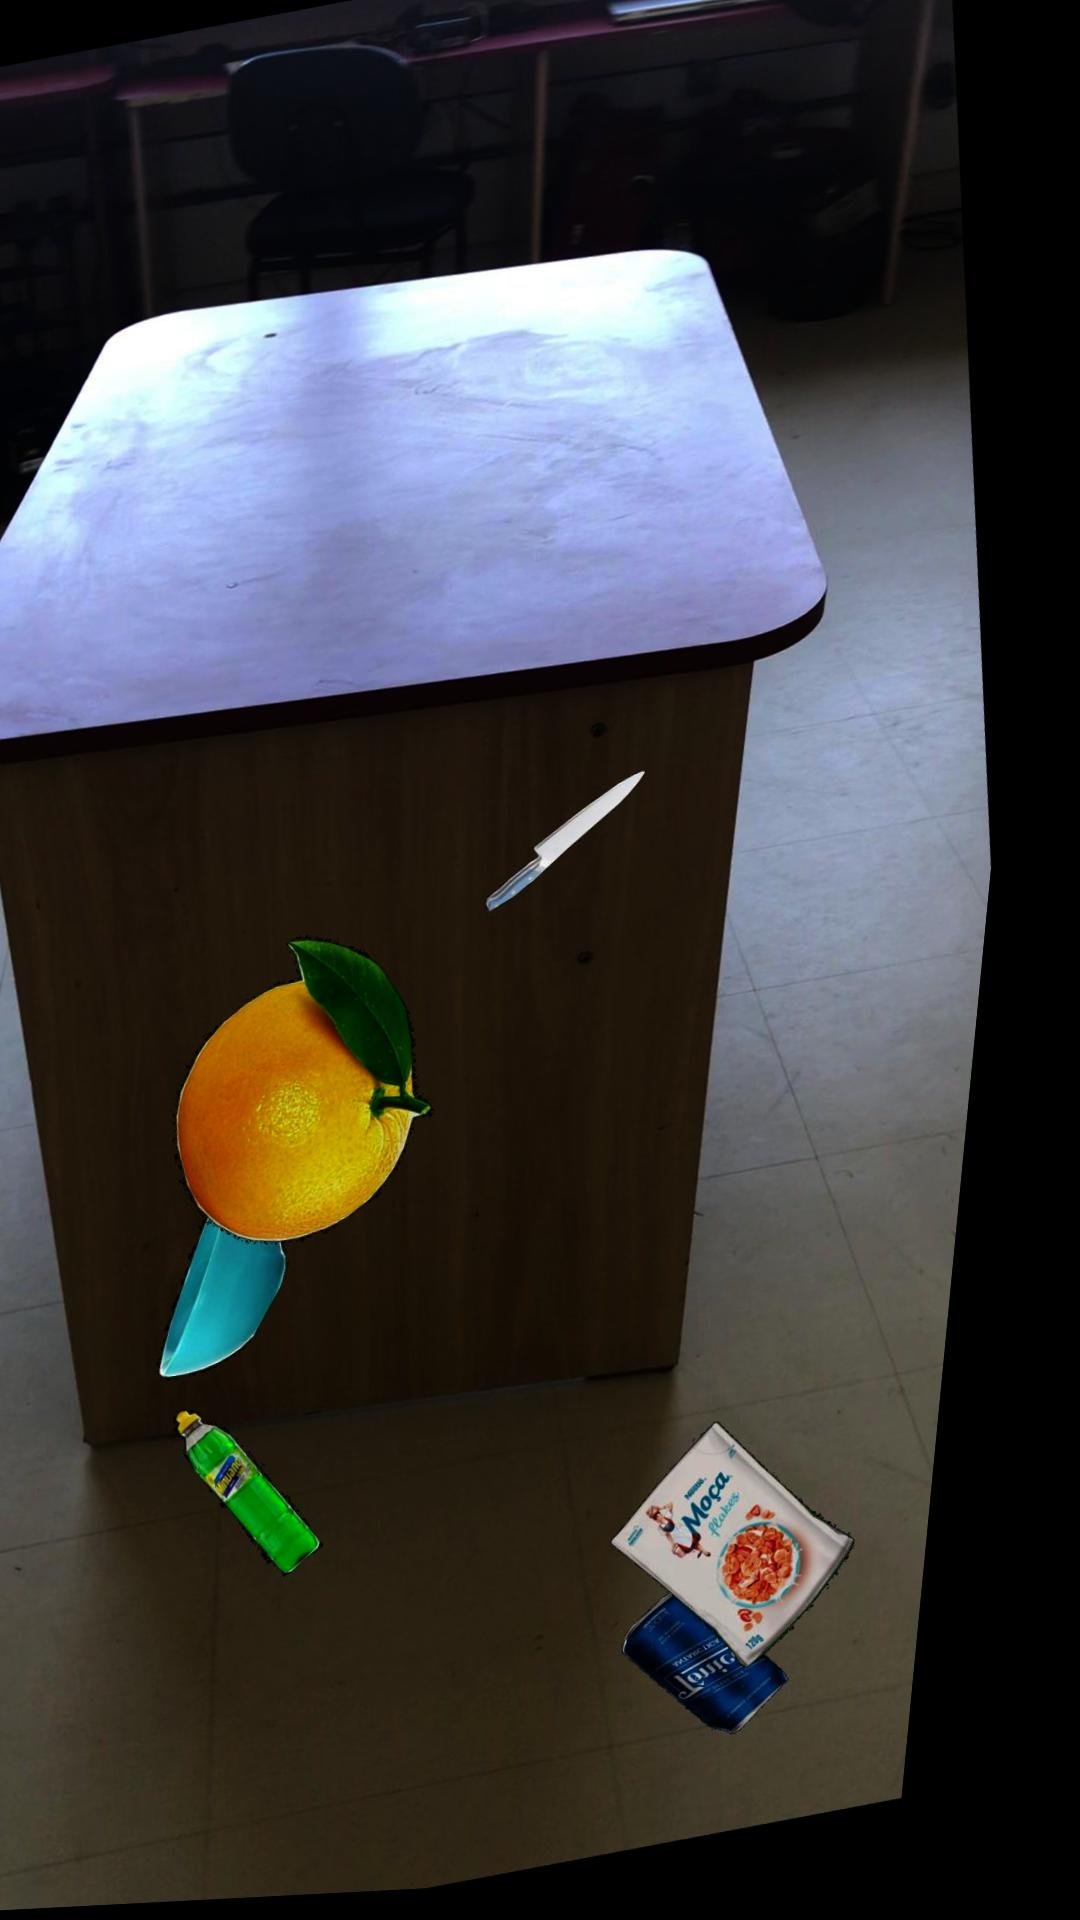bowl: (186, 1217, 314, 1381)
cleaner: (203, 1410, 356, 1578)
corn flakes: (644, 1428, 887, 1675)
knife: (505, 775, 663, 915)
orange: (198, 938, 456, 1244)
tonic: (657, 1600, 824, 1741)
